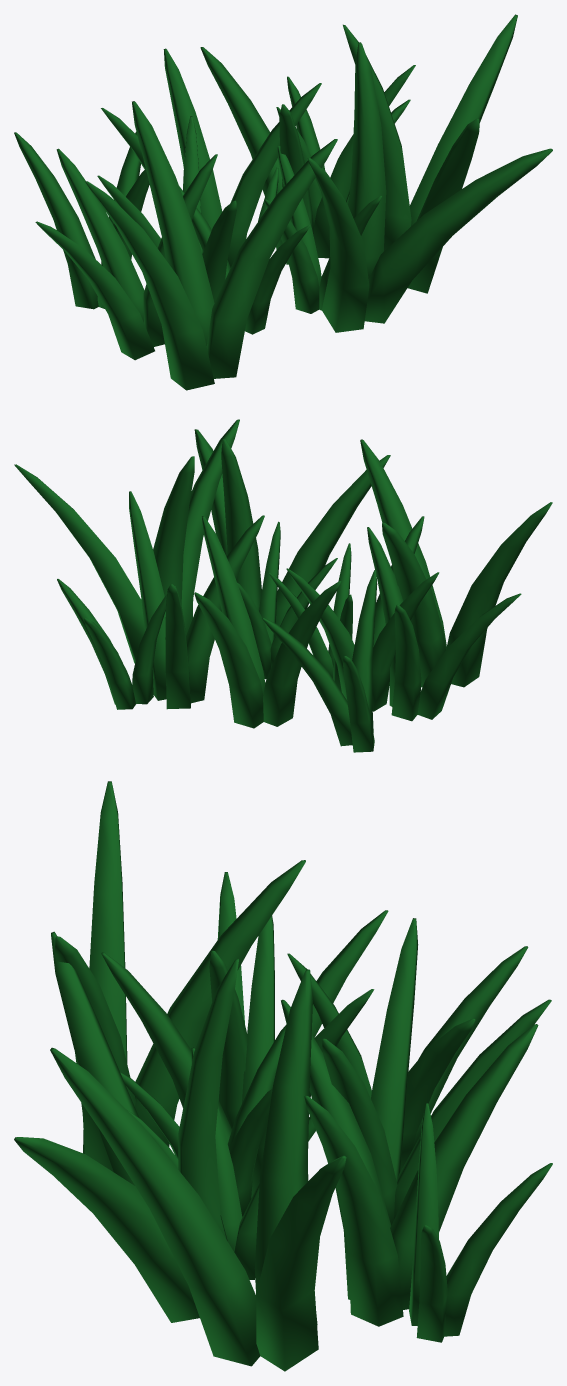
File: Grass.fbx
The picture shows the model from 3 angles, top to bottom: view 1: azimuth 30°, elevation 25°; view 2: azimuth 150°, elevation 25°; view 3: azimuth 270°, elevation 25°; orthographic projection. The views are drawn at different scales.
Parts seen in each view (by area): view 1: Grass; view 2: Grass; view 3: Grass.
Boxes of the visible parts, x1,y1,x2,y2 form: Grass: (14, 14, 552, 390); Grass: (14, 419, 552, 752); Grass: (14, 781, 552, 1371).
Size of the model in its own units: 418 by 201 by 269.
